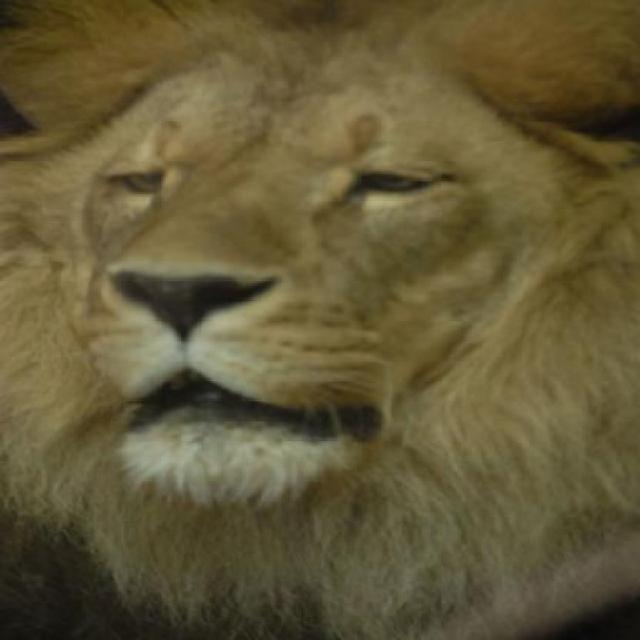Lion: (3, 9, 635, 638)
